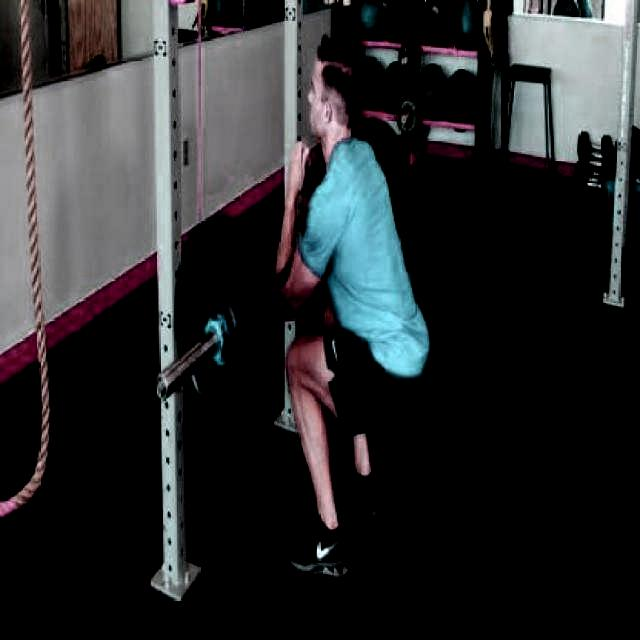barbell: (168, 208, 282, 452)
